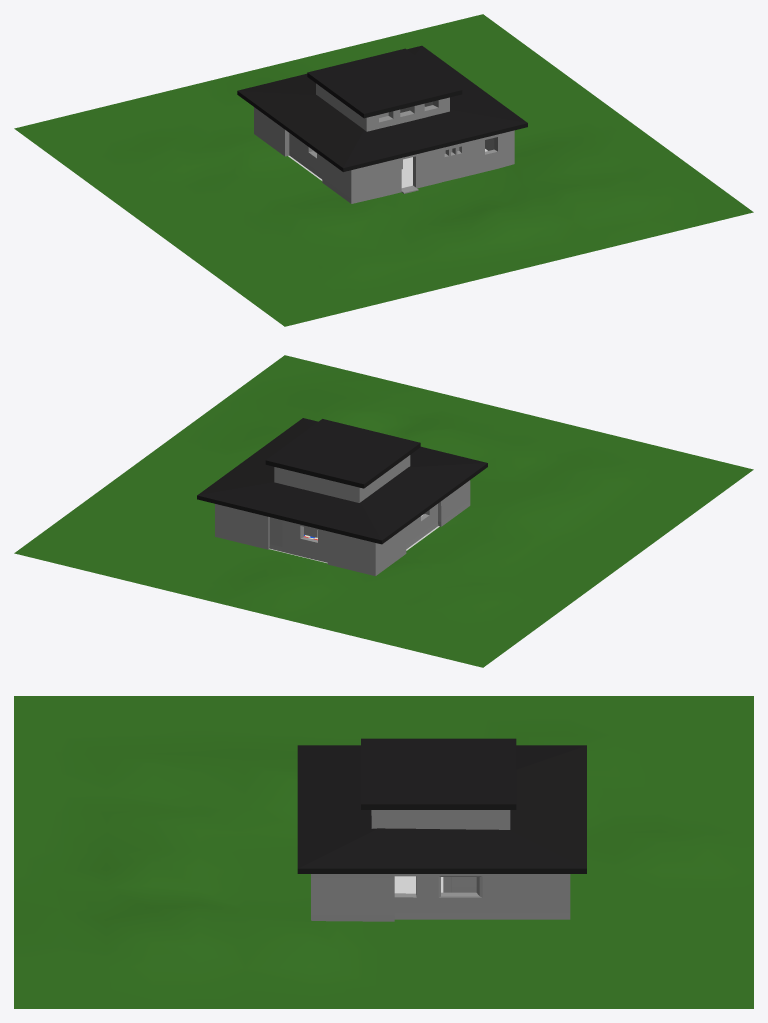
Rendered from amhorn(furnished).fbx.
3 views of the same model, one above another, from view 1: azimuth 30°, elevation 25°; view 2: azimuth 150°, elevation 25°; view 3: azimuth 270°, elevation 25° (orthographic). The views are drawn at different scales.
Visible parts, largest first — view 1: Grass, roof.001, House; view 2: Grass, roof.001, House; view 3: Grass, roof.001, House.
Boxes of the visible parts, box(x1,y1,x2,y2) form: Grass: box(14, 14, 753, 326); roof.001: box(237, 45, 527, 171); House: box(254, 83, 514, 203); Grass: box(14, 355, 753, 667); roof.001: box(197, 418, 487, 544); House: box(215, 455, 470, 575); Grass: box(14, 696, 753, 1008); roof.001: box(297, 738, 586, 873); House: box(311, 810, 570, 921).
Size of the model in its own units: 6000 by 896 by 6000.
